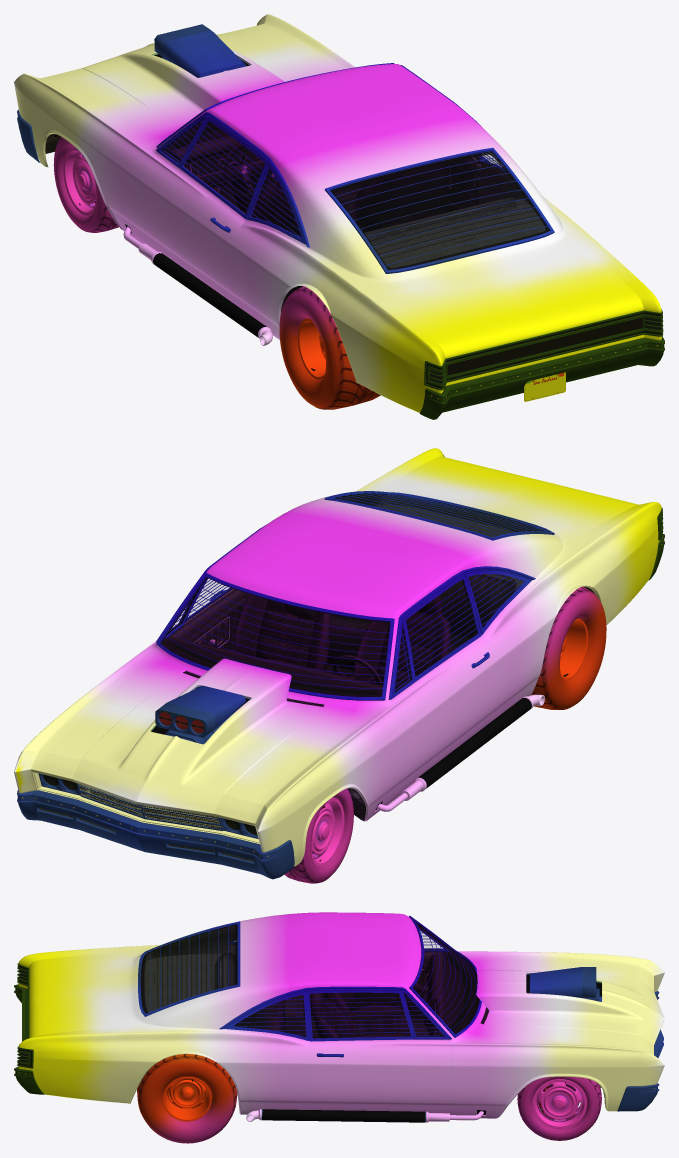
Rendered from impaler4.glb.
3 views of the same model, one above another, from view 1: azimuth 30°, elevation 25°; view 2: azimuth 150°, elevation 25°; view 3: azimuth 270°, elevation 25° (orthographic). The views are drawn at different scales.
Visible parts, largest first — view 1: bodyshell, chassis, windscreen_r, door_dside_f, wheel_lr, bumper_r, misc_e, wheel_lf, misc_f, window_lf, misc_g, door_pside_f (+2 smaller); view 2: bodyshell, chassis, door_dside_f, misc_h, misc_e, wheel_lr, wheel_lf, door_pside_f, misc_f, window_lf, misc_g, windscreen_r (+1 smaller); view 3: bodyshell, chassis, door_pside_f, wheel_rr, windscreen_r, wheel_rf, window_rf, misc_e, misc_g, misc_f, door_dside_f, misc_d (+3 smaller).
Part boxes in pixels (<box>): bodyshell: <box>14,14,663,412</box>; chassis: <box>45,121,661,383</box>; windscreen_r: <box>330,151,549,270</box>; door_dside_f: <box>139,115,268,303</box>; wheel_lr: <box>279,286,380,409</box>; bumper_r: <box>419,336,664,419</box>; misc_e: <box>156,63,554,273</box>; wheel_lf: <box>53,137,118,232</box>; misc_f: <box>154,24,245,77</box>; window_lf: <box>184,122,263,213</box>; misc_g: <box>123,226,272,345</box>; door_pside_f: <box>445,156,488,212</box>; bodyshell: <box>14,448,663,866</box>; chassis: <box>43,494,593,834</box>; door_dside_f: <box>391,575,499,787</box>; misc_h: <box>17,790,294,879</box>; misc_e: <box>156,491,554,700</box>; wheel_lr: <box>531,586,606,709</box>; wheel_lf: <box>284,788,353,883</box>; door_pside_f: <box>151,578,250,650</box>; misc_f: <box>155,685,245,737</box>; window_lf: <box>407,580,476,675</box>; misc_g: <box>377,694,544,811</box>; windscreen_r: <box>335,493,543,536</box>; bodyshell: <box>17,912,664,1118</box>; chassis: <box>18,925,604,1097</box>; door_pside_f: <box>307,990,452,1110</box>; wheel_rr: <box>137,1054,237,1143</box>; windscreen_r: <box>140,924,237,1013</box>; wheel_rf: <box>517,1076,601,1140</box>; window_rf: <box>310,993,410,1037</box>; misc_e: <box>138,916,481,1037</box>; misc_g: <box>246,1109,483,1122</box>; misc_f: <box>529,967,596,998</box>; door_dside_f: <box>310,928,449,1018</box>; misc_d: <box>235,995,305,1036</box>.
Size of the model in its own units: 2.06 by 1.37 by 5.33.
21 materials, 21 textured.
